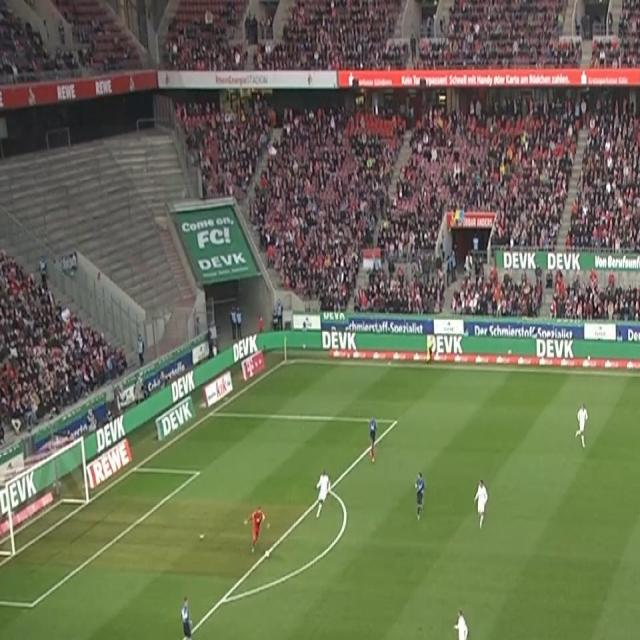ball: (264, 548, 270, 558)
